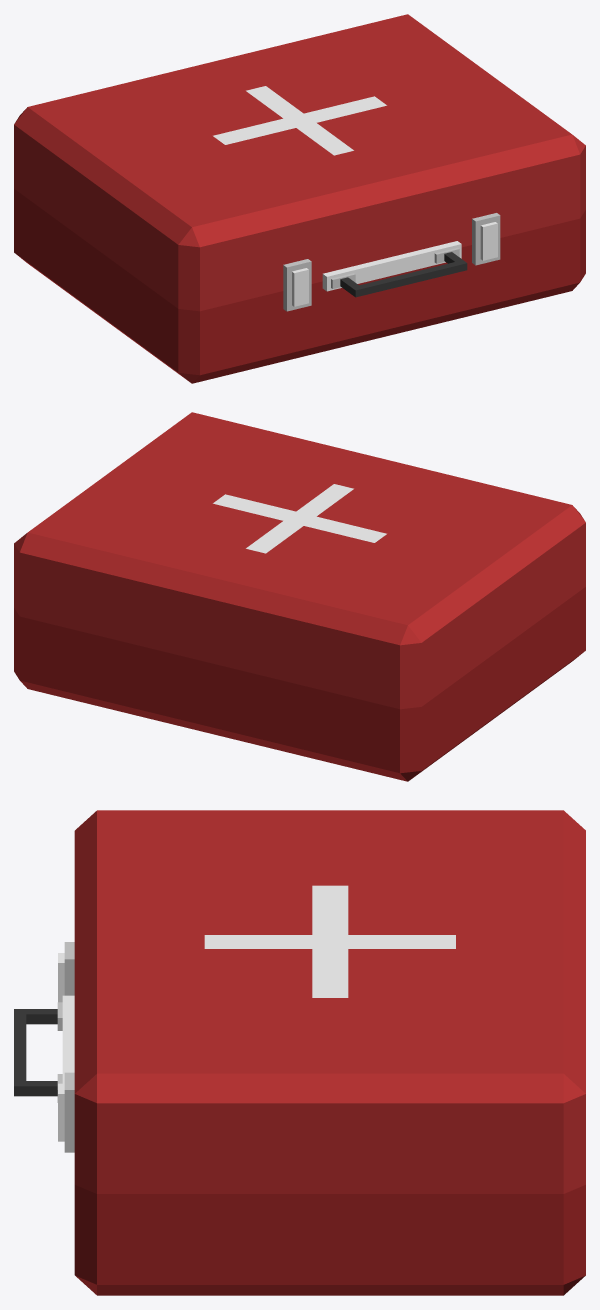
The model's file is mesh_medkit.fbx.
The picture shows the model from 3 angles, top to bottom: view 1: azimuth 30°, elevation 25°; view 2: azimuth 150°, elevation 25°; view 3: azimuth 270°, elevation 25°; orthographic projection. The views are drawn at different scales.
Parts seen in each view (by area): view 1: mesh_medkit; view 2: mesh_medkit; view 3: mesh_medkit.
Part boxes in pixels (x1,y1,x2,y2): mesh_medkit: (14,14,585,383); mesh_medkit: (14,412,585,781); mesh_medkit: (14,810,585,1295).
Bounding box in the file's own units: 0.5086 × 0.1866 × 0.4356.
